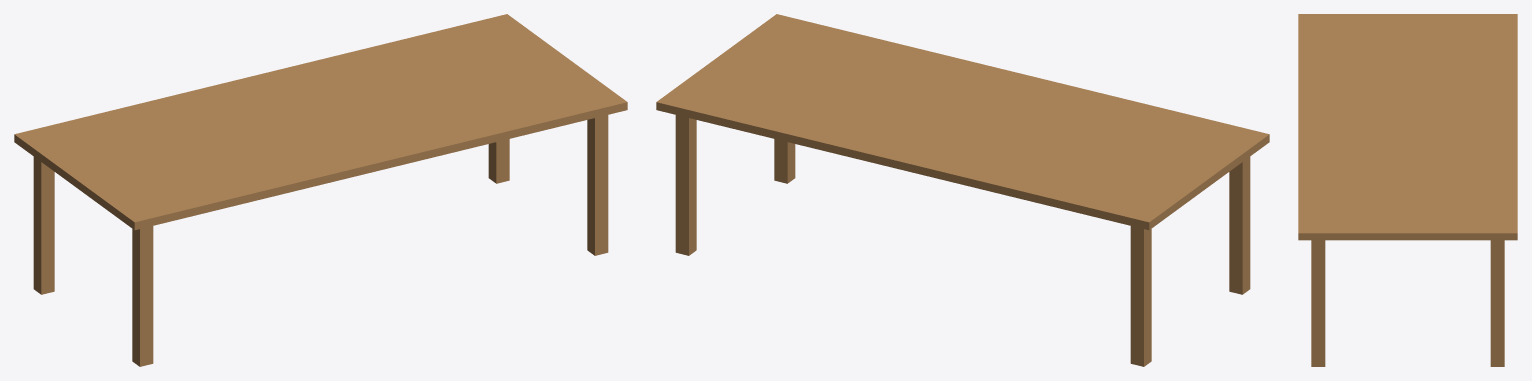
The picture shows the model from 3 angles, left to right: view 1: azimuth 30°, elevation 25°; view 2: azimuth 150°, elevation 25°; view 3: azimuth 270°, elevation 25°; orthographic projection. The views are drawn at different scales.
Parts seen in each view (by area): view 1: mesa_meetl; view 2: mesa_meetl; view 3: mesa_meetl.
Boxes of the visible parts, <box> form: mesa_meetl: <box>14,14,627,366</box>; mesa_meetl: <box>656,14,1269,366</box>; mesa_meetl: <box>1298,14,1517,366</box>.
Bounding box in the file's own units: 2.6 × 1.1 × 0.77.
